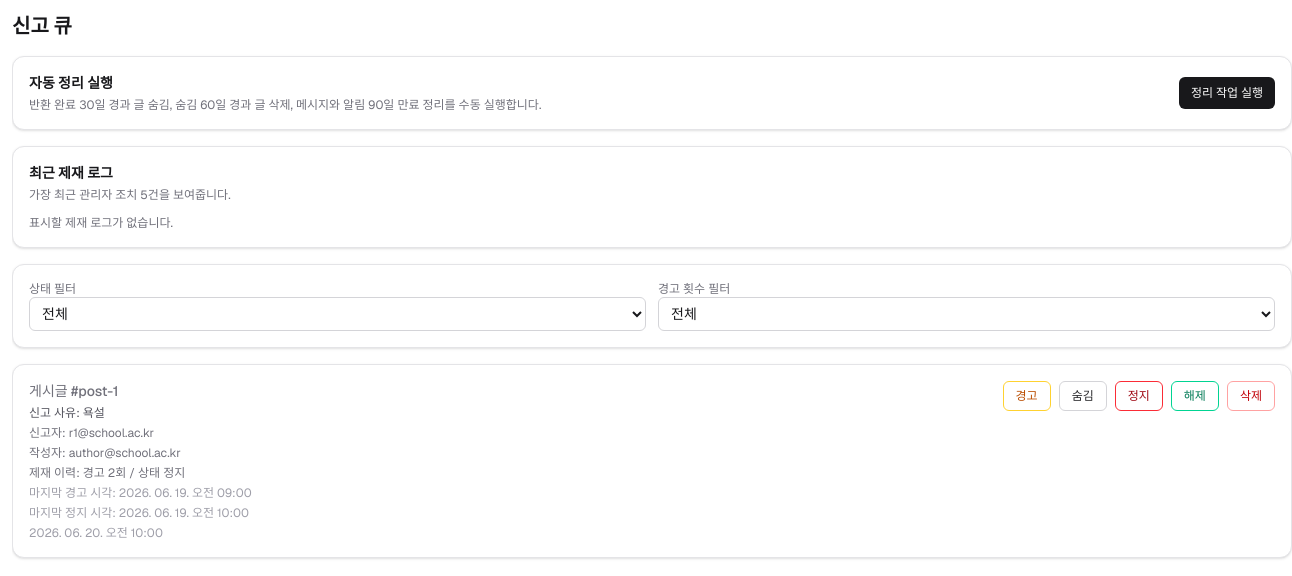
it: AdminReportQueue › sends warn action from report item
Expected: the heading "신고 큐" is shown, [12,13,72,39]
Expected: the text "제재 이력: 경고 2회 / 상태 정지" is shown, [29,465,185,481]
Click the button "경고" at (1027, 396), box [1002,381,1051,411]
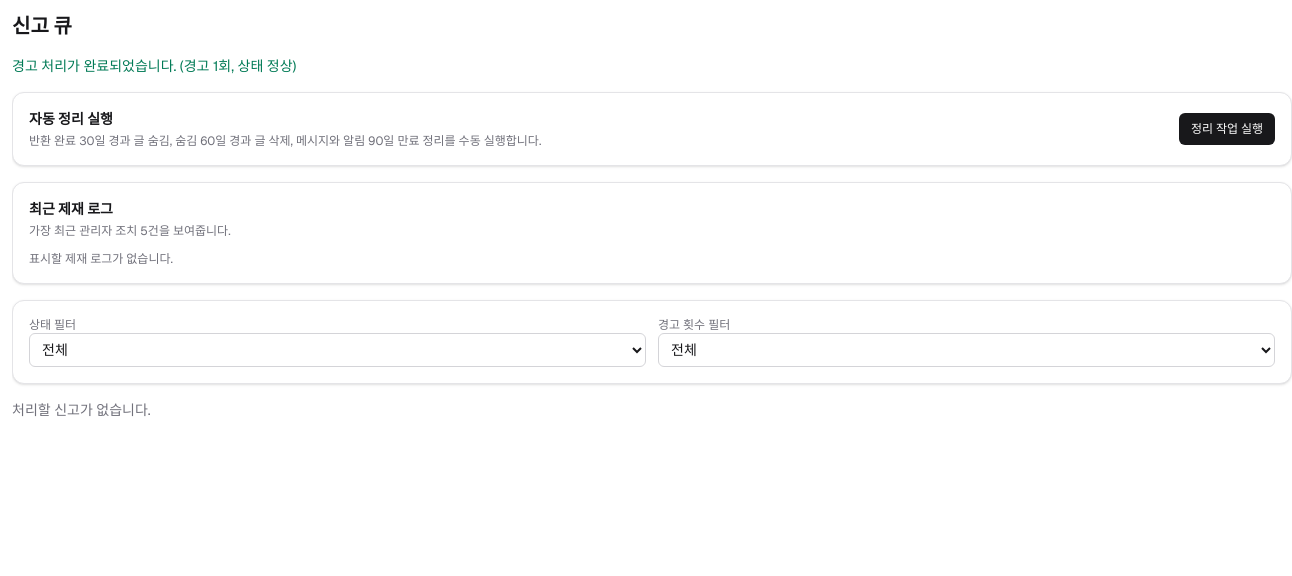
Expected: the button "해제" is gone
Expected: the text "경고 처리가 완료되었습니다. (경고 1회, 상태 정상)" is shown, [12,57,296,75]
